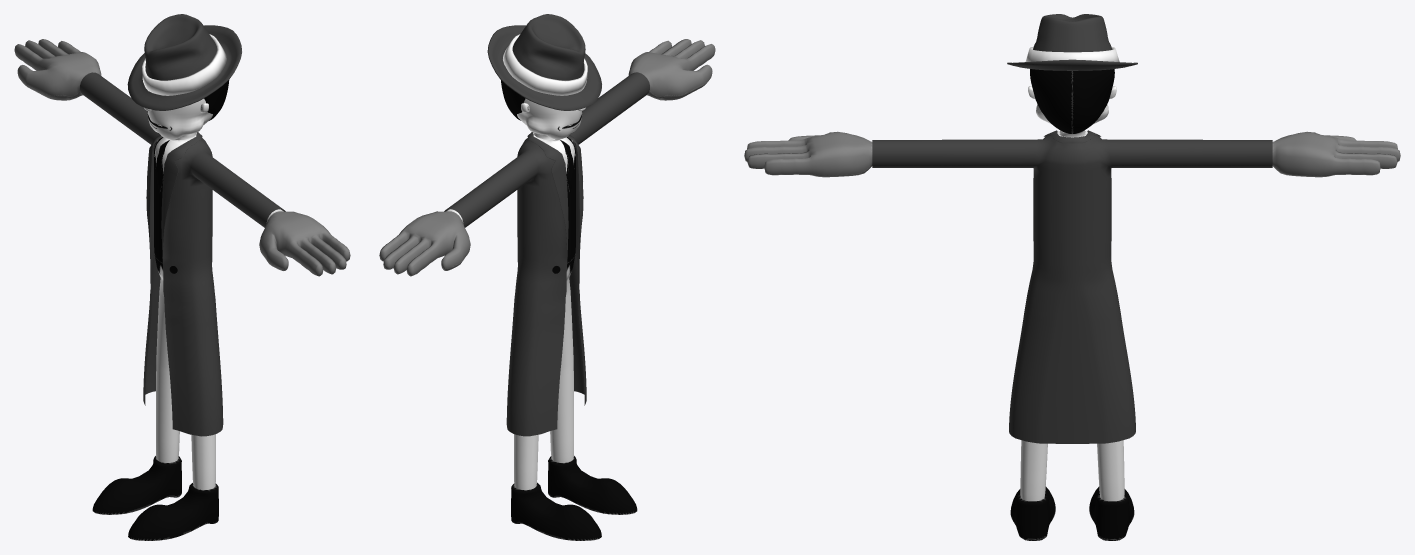
File: RangedEnemy.fbx
The picture shows the model from 3 angles, left to right: view 1: azimuth 30°, elevation 25°; view 2: azimuth 150°, elevation 25°; view 3: azimuth 270°, elevation 25°; orthographic projection. The views are drawn at different scales.
Visible parts, largest first — view 1: coat, body.004, fedora.001, fedora band.001; view 2: coat, body.004, fedora.001, fedora band.001; view 3: coat, body.004, fedora.001, fedora band.001.
Part boxes in pixels (x1,y1,x2,y2): coat: (80, 72, 285, 436); body.004: (14, 39, 350, 540); fedora.001: (127, 14, 241, 110); fedora band.001: (142, 34, 226, 95); coat: (444, 72, 649, 436); body.004: (379, 39, 715, 540); fedora.001: (487, 14, 601, 110); fedora band.001: (503, 34, 587, 95); coat: (872, 130, 1272, 443); body.004: (744, 69, 1400, 540); fedora.001: (1007, 14, 1137, 70); fedora band.001: (1025, 46, 1119, 61).
Size of the model in its own units: 117 by 447 by 511.
5 materials, 1 textured.
